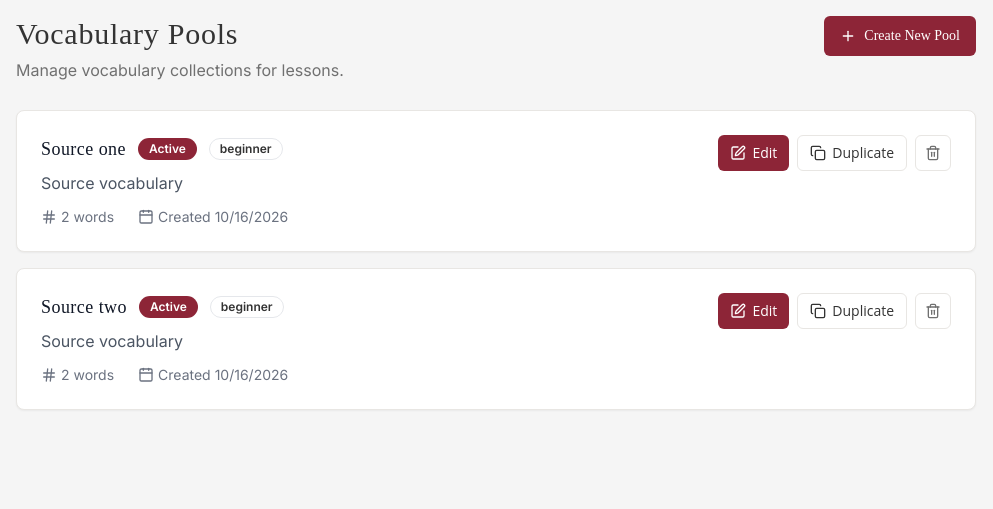
Test: shows a persistent warning for a blocked challenge: Remove this pool from 1 saved assignment
Step 1. Click the button named "Delete Source one" → (933, 153), box [915,135,951,171]
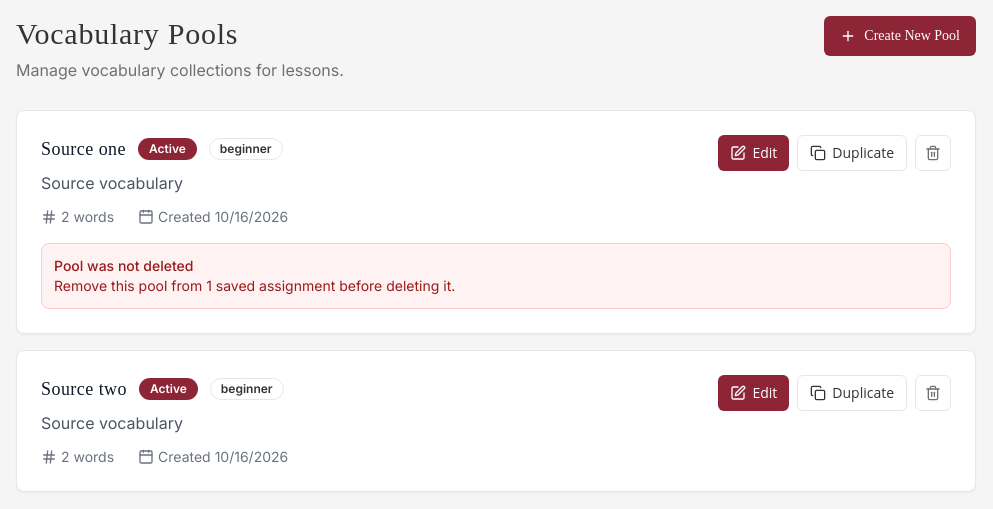
expect the message shows "Remove this pool from 1 saved assignment": met, box [54,277,455,294]
